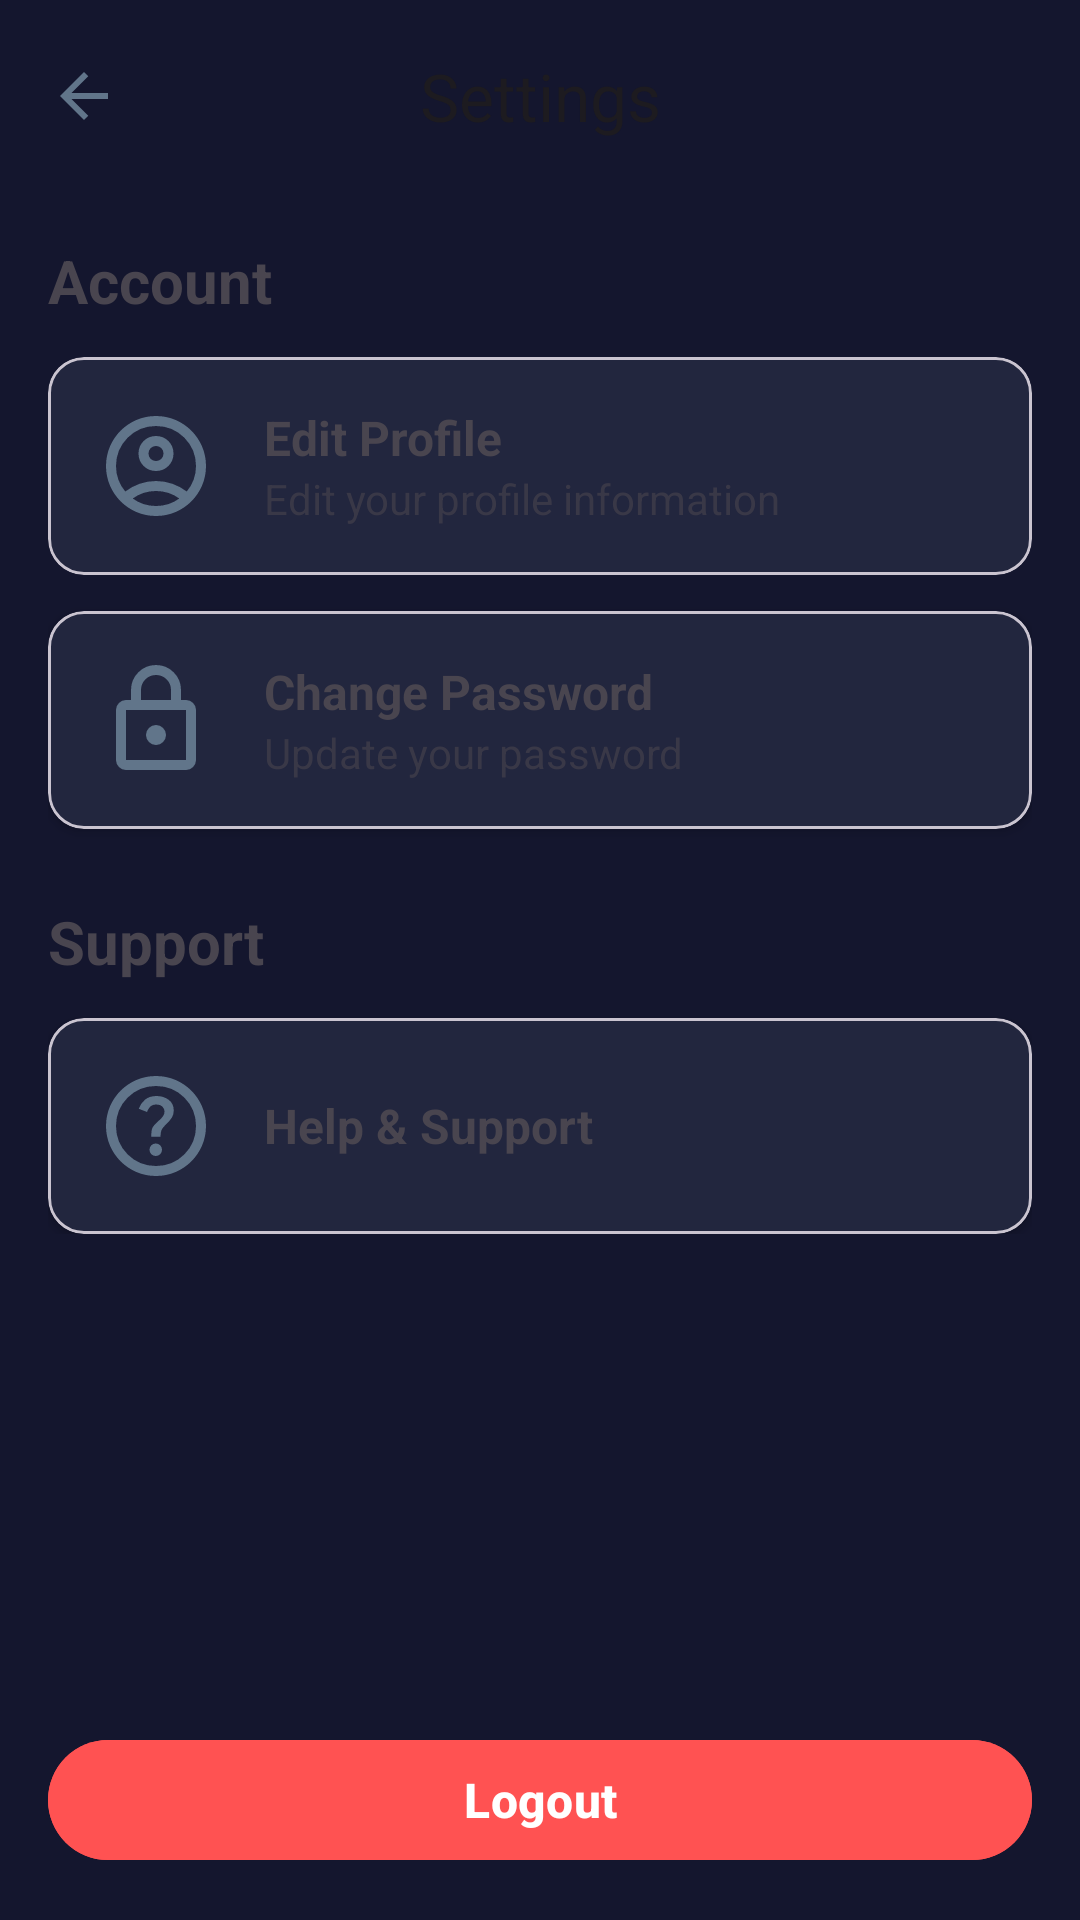

Icon bounding boxes for this 1080 x 1920 phone screenshot, format Rect(x1, y1, x2, y2):
lock: Rect(116, 665, 196, 770)
